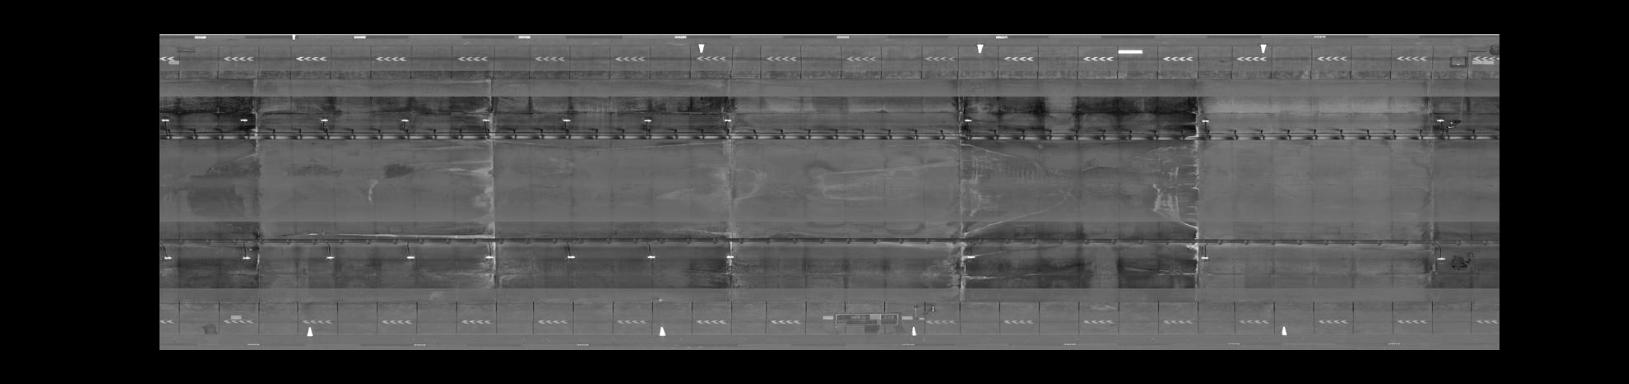light: (639, 113, 653, 125), (719, 252, 739, 260), (323, 252, 339, 263), (963, 252, 982, 260), (1196, 253, 1214, 262), (317, 115, 335, 124), (477, 116, 495, 125), (643, 252, 659, 262), (236, 116, 252, 125), (1197, 117, 1212, 126), (1432, 115, 1447, 124), (1434, 255, 1449, 264), (239, 254, 257, 262), (481, 253, 498, 260), (563, 252, 578, 260), (162, 252, 175, 262), (398, 116, 413, 124), (559, 116, 575, 124), (720, 116, 736, 124), (963, 115, 974, 125), (402, 254, 418, 260), (160, 115, 171, 124)
